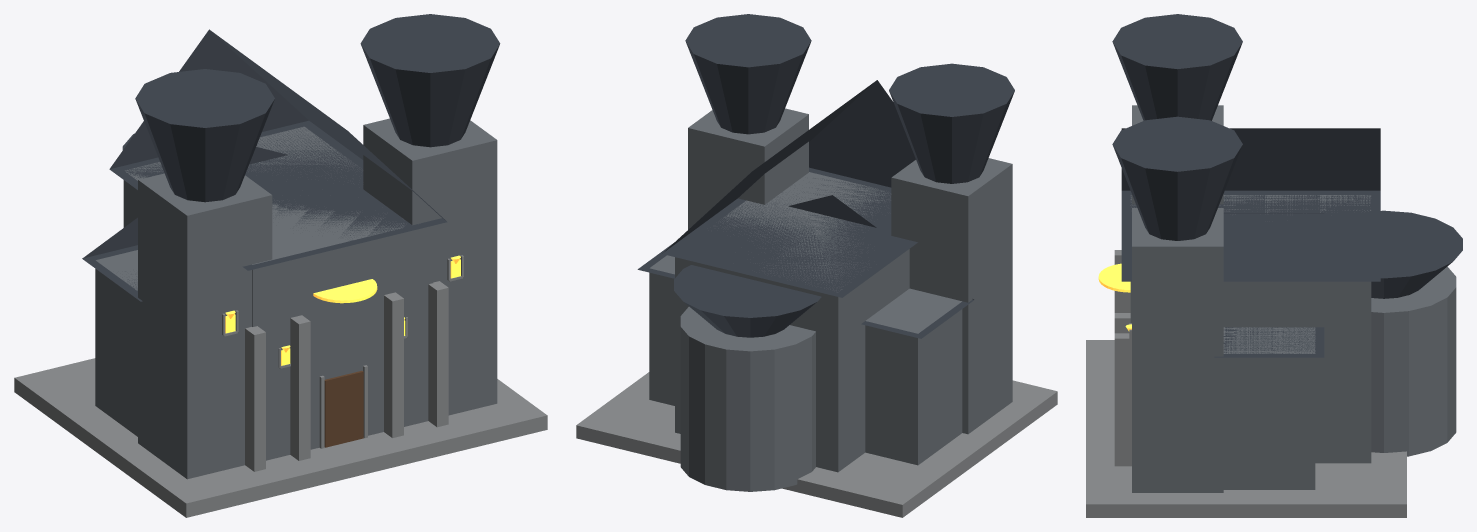
File: cathedral.glb
3 renders of one model, left to right at view 1: azimuth 30°, elevation 25°; view 2: azimuth 150°, elevation 25°; view 3: azimuth 270°, elevation 25°, orthographic. The views are drawn at different scales.
Parts seen in each view (by area): view 1: CathedralTower0, Nave, CathedralFoundation, CathedralTower1, NaveRoof, CathedralSpire1, CathedralSpire0, Transept, FrontButtress4.3, FrontButtress-4.3, FrontButtress-2.2, FrontButtress2.2 (+3 smaller); view 2: NaveRoof, Apse, CathedralTower0, Nave, Transept, CathedralFoundation, CathedralSpire1, CathedralSpire0, CathedralTower1, ApseRoof, TranseptRoof; view 3: NaveRoof, CathedralTower1, CathedralFoundation, Nave, Transept, Apse, CathedralSpire1, CathedralSpire0, ApseRoof, TranseptRoof, FrontButtress4.3, RoseWindow.
Boxes of the visible parts, bbox=[...] form: CathedralTower0: bbox=[138, 173, 272, 479]; Nave: bbox=[123, 126, 433, 460]; CathedralFoundation: bbox=[14, 358, 547, 517]; CathedralTower1: bbox=[363, 118, 497, 415]; NaveRoof: bbox=[109, 29, 447, 270]; CathedralSpire1: bbox=[360, 14, 500, 147]; CathedralSpire0: bbox=[135, 69, 274, 202]; Transept: bbox=[95, 250, 137, 436]; FrontButtress4.3: bbox=[428, 281, 448, 427]; FrontButtress-4.3: bbox=[245, 326, 265, 471]; FrontButtress-2.2: bbox=[290, 315, 310, 460]; FrontButtress2.2: bbox=[384, 292, 403, 438]; NaveRoof: bbox=[662, 80, 917, 297]; Apse: bbox=[680, 306, 815, 491]; CathedralTower0: bbox=[891, 158, 1012, 434]; Nave: bbox=[675, 172, 909, 472]; Transept: bbox=[649, 255, 962, 465]; CathedralFoundation: bbox=[576, 372, 1057, 517]; CathedralSpire1: bbox=[685, 14, 811, 134]; CathedralSpire0: bbox=[889, 63, 1014, 183]; CathedralTower1: bbox=[688, 108, 808, 229]; ApseRoof: bbox=[674, 265, 821, 337]; TranseptRoof: bbox=[637, 195, 973, 338]; NaveRoof: bbox=[1121, 128, 1380, 281]; CathedralTower1: bbox=[1132, 208, 1223, 492]; CathedralFoundation: bbox=[1086, 340, 1406, 517]; Nave: bbox=[1130, 195, 1371, 463]; Transept: bbox=[1223, 327, 1315, 489]; Apse: bbox=[1371, 266, 1456, 456]; CathedralSpire1: bbox=[1112, 116, 1242, 240]; CathedralSpire0: bbox=[1112, 14, 1242, 120]; ApseRoof: bbox=[1371, 210, 1462, 298]; TranseptRoof: bbox=[1214, 213, 1324, 357]; FrontButtress4.3: bbox=[1114, 333, 1131, 466]; RoseWindow: bbox=[1098, 263, 1130, 292].
Bounding box in the file's own units: 17 × 16.5 × 16.45.
